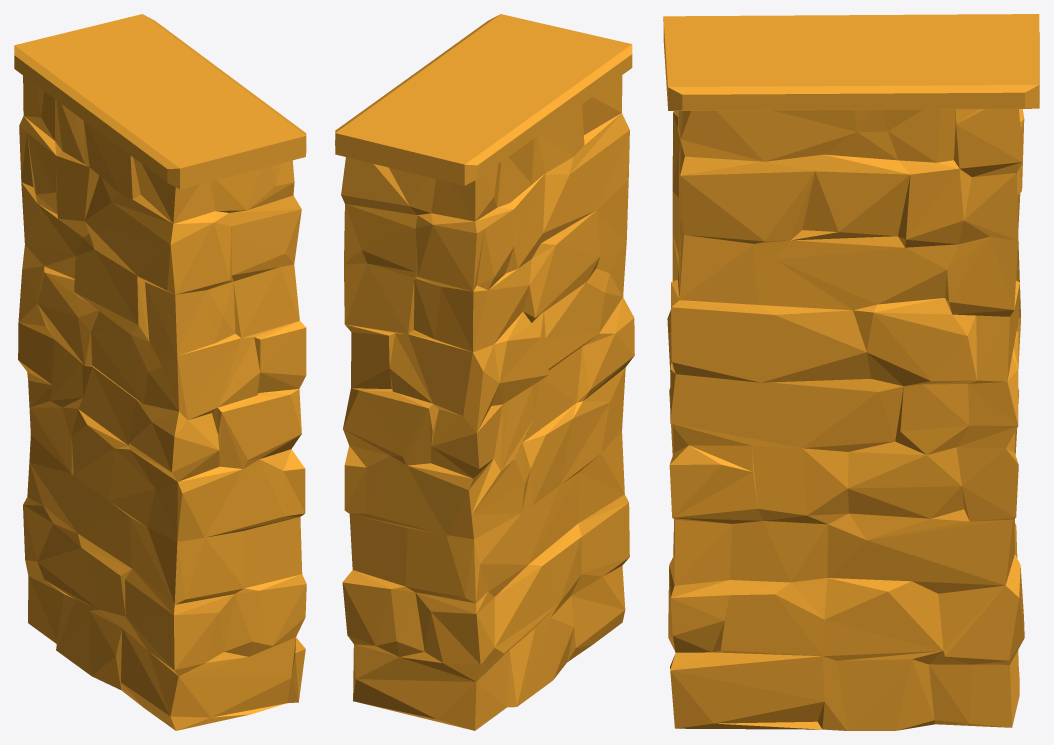
Rendered from SM_Support_A_Fantasy.fbx.
3 views of the same model, side by side, from view 1: azimuth 30°, elevation 25°; view 2: azimuth 150°, elevation 25°; view 3: azimuth 270°, elevation 25° (orthographic). The views are drawn at different scales.
Visible parts, largest first — view 1: SM_Support_A_Fantasy; view 2: SM_Support_A_Fantasy; view 3: SM_Support_A_Fantasy.
Part boxes in pixels (x1,y1,x2,y2): SM_Support_A_Fantasy: (14,14,306,730); SM_Support_A_Fantasy: (335,14,634,730); SM_Support_A_Fantasy: (663,14,1039,730).
Bounding box in the file's own units: 0.7973 × 3.08 × 1.62.
